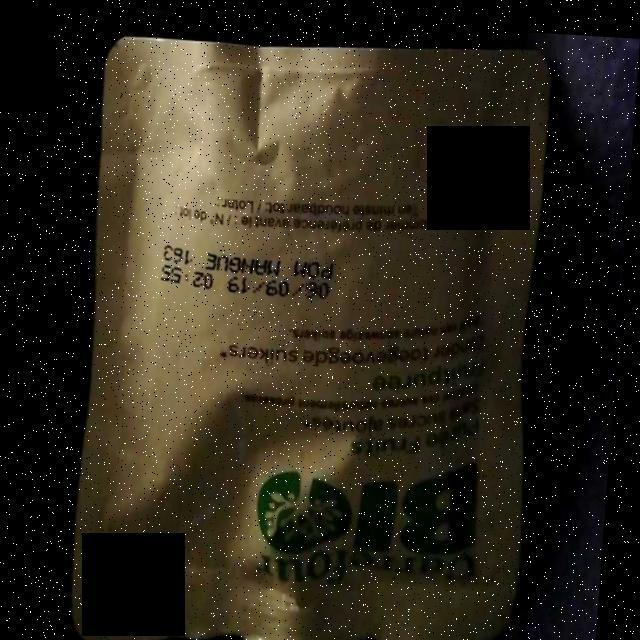compotes: (82, 52, 551, 638)
